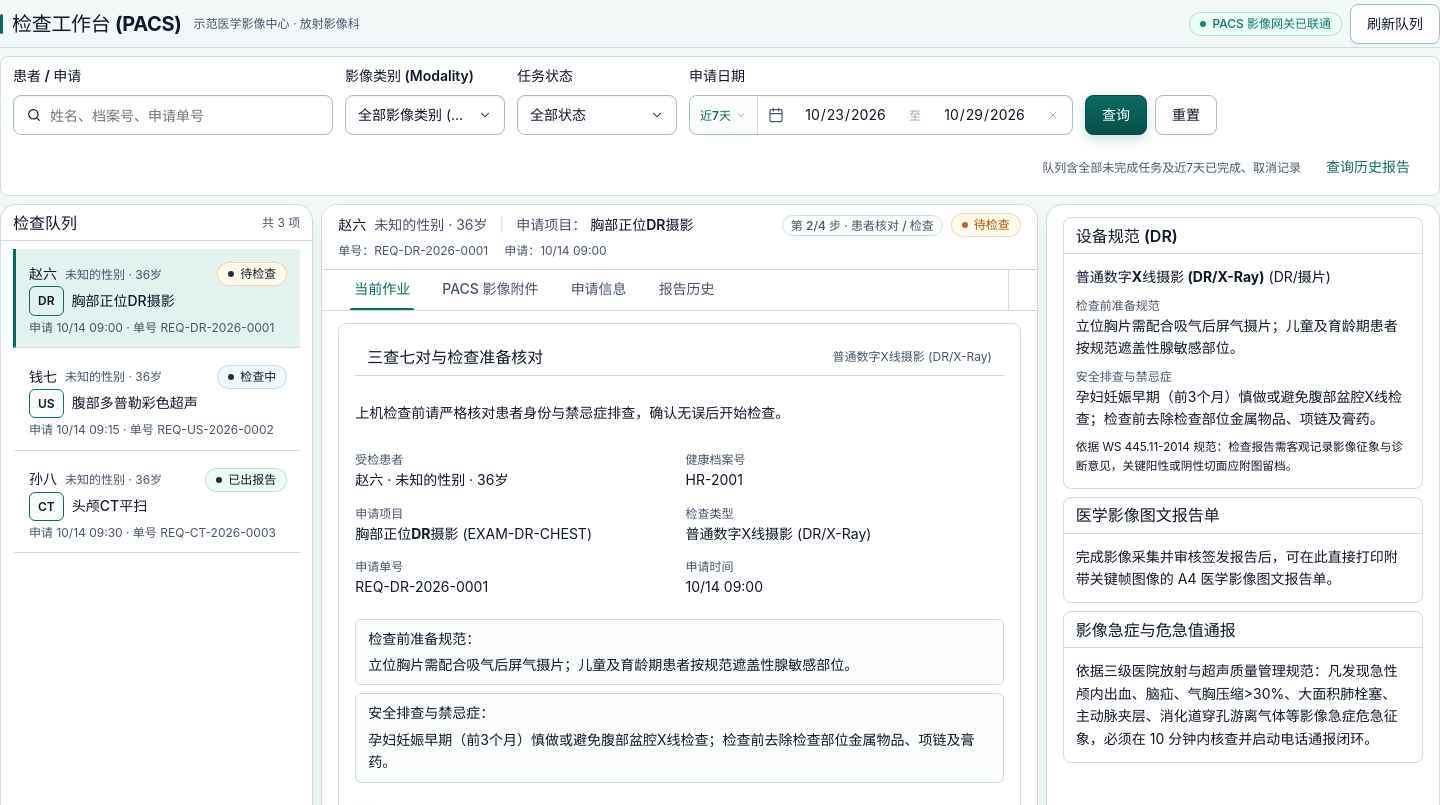
ExaminationWorkspace PACS Features › allows selecting completed examination and displays report printing action
点击第三项（已完成的头颅CT）
Click the button with aria-label "孙八 · [CT] 头颅CT平扫". click: click(95, 479)
box: x1=16 y1=454 x2=300 y2=552
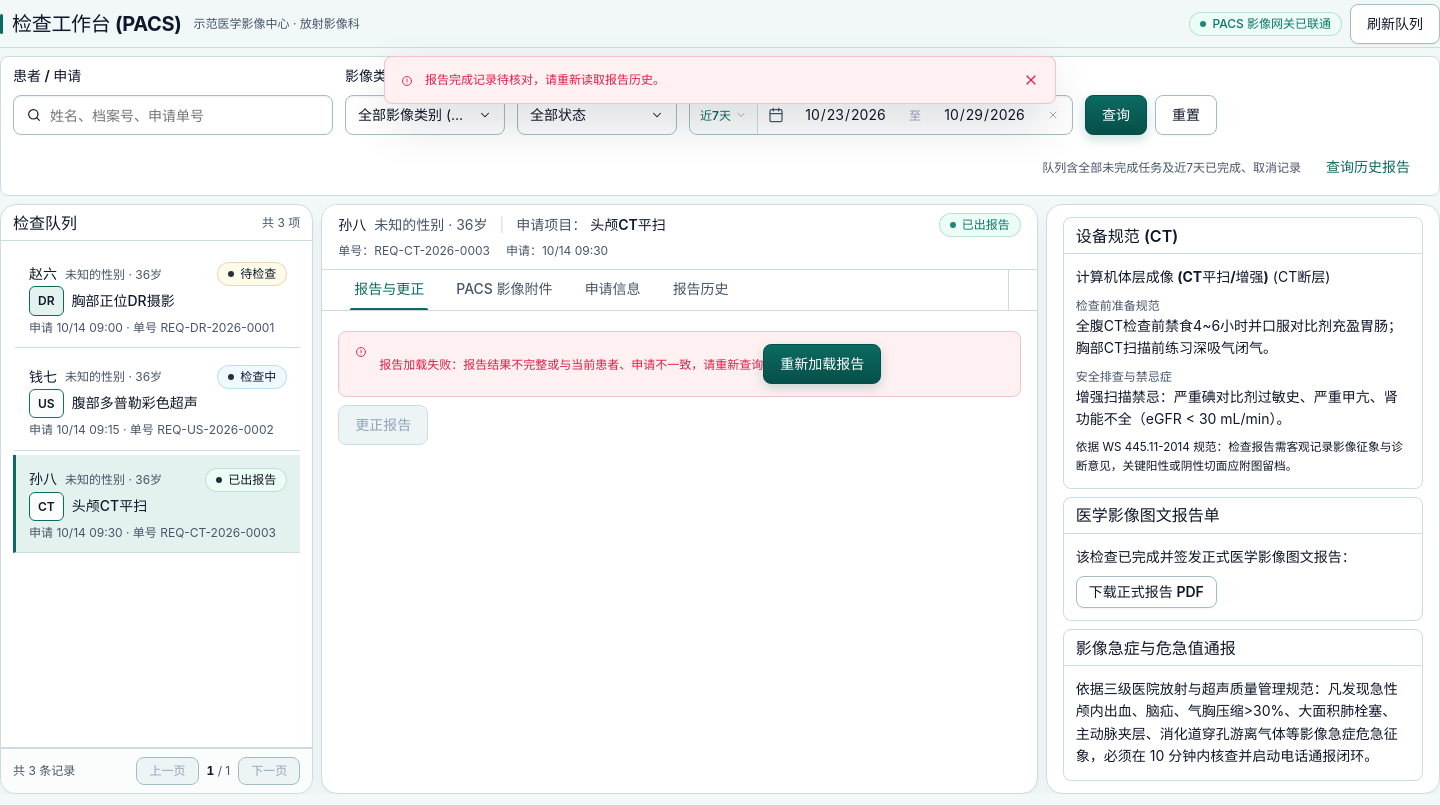
Expected: the heading "设备规范 (CT)" is shown, x1=1076 y1=224 x2=1178 y2=248
Expected: the text "该检查已完成并签发正式医学影像图文报告：" is shown, x1=1076 y1=548 x2=1356 y2=565
Expected: the button "下载正式报告 PDF" is shown, x1=1076 y1=576 x2=1217 y2=608
